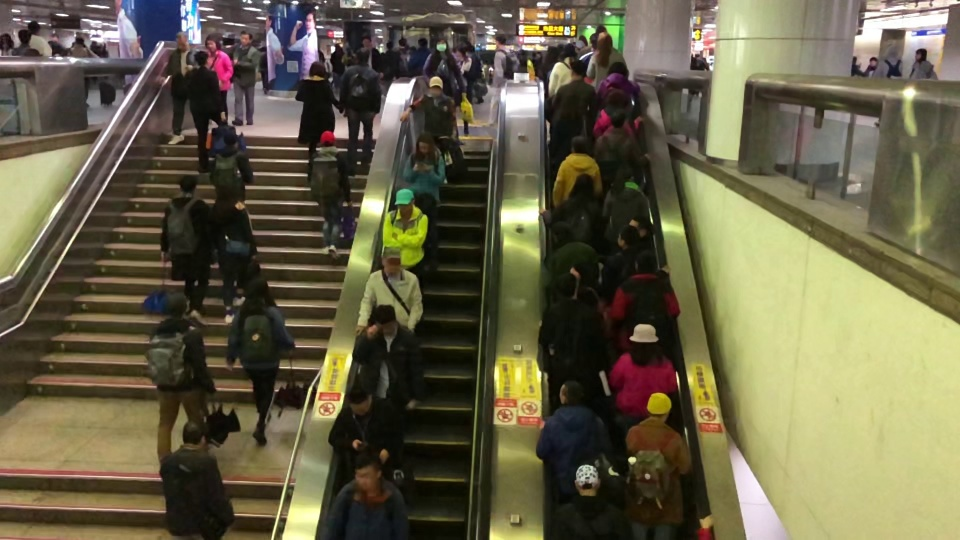person_head: (350, 447, 384, 495), (630, 321, 661, 360), (344, 375, 374, 415), (644, 391, 674, 424), (574, 463, 601, 499), (180, 419, 210, 446), (557, 379, 585, 406), (163, 291, 189, 320), (551, 275, 579, 300), (244, 276, 273, 300), (633, 248, 658, 275), (375, 304, 396, 334), (414, 131, 437, 156), (548, 220, 574, 242), (382, 246, 402, 274), (394, 188, 415, 214), (177, 171, 200, 194), (616, 226, 639, 249), (572, 173, 594, 197), (630, 216, 652, 239), (559, 94, 579, 119), (607, 60, 630, 80), (605, 90, 628, 110), (569, 134, 589, 155), (617, 162, 634, 184), (308, 59, 326, 79), (427, 74, 443, 96), (318, 129, 336, 147), (609, 110, 626, 129), (571, 59, 587, 79), (224, 187, 244, 202), (598, 30, 613, 50), (175, 30, 189, 51), (193, 49, 209, 67), (223, 129, 238, 148), (205, 32, 220, 50), (436, 35, 450, 54), (914, 48, 929, 63), (240, 29, 253, 46), (0, 33, 14, 48), (355, 50, 367, 66), (362, 35, 374, 50), (884, 45, 899, 57), (28, 21, 40, 35), (455, 46, 467, 60), (17, 29, 29, 42), (495, 34, 506, 48), (417, 36, 429, 48), (562, 45, 574, 57), (590, 34, 597, 48), (74, 34, 83, 44), (386, 40, 394, 50), (576, 41, 584, 51), (334, 42, 341, 53), (399, 37, 406, 48), (869, 56, 876, 66), (51, 33, 58, 41), (260, 46, 267, 52), (851, 55, 855, 63), (695, 53, 700, 58)
person_vbox: (143, 291, 216, 461), (224, 275, 296, 446), (605, 322, 679, 477), (586, 246, 683, 353), (624, 391, 691, 540), (158, 172, 219, 331), (159, 418, 235, 540), (317, 447, 411, 540), (324, 374, 405, 480), (537, 273, 607, 394), (534, 378, 607, 494), (352, 303, 426, 412), (401, 131, 446, 283), (210, 186, 259, 325), (399, 74, 459, 186), (354, 248, 424, 337), (552, 461, 629, 540), (293, 60, 342, 183), (309, 129, 354, 259), (337, 49, 382, 174), (182, 49, 226, 175), (537, 172, 609, 248), (601, 227, 671, 303), (422, 34, 467, 148), (159, 30, 197, 148), (382, 186, 430, 277), (603, 160, 651, 241), (546, 58, 599, 131), (553, 133, 603, 209), (593, 110, 651, 175), (543, 219, 601, 284), (208, 128, 258, 201), (230, 27, 262, 127), (550, 94, 588, 172), (204, 31, 234, 124), (873, 43, 905, 128), (591, 89, 644, 139), (585, 31, 627, 90), (70, 35, 101, 109), (597, 61, 642, 106), (454, 45, 474, 140), (492, 32, 519, 86), (548, 43, 576, 92), (909, 47, 938, 81), (362, 35, 384, 77), (10, 29, 39, 58), (410, 34, 431, 74), (330, 40, 345, 94), (29, 21, 52, 56), (381, 42, 400, 79), (258, 45, 269, 94), (397, 38, 410, 68), (0, 32, 15, 57), (48, 32, 65, 54), (864, 55, 878, 77), (850, 55, 862, 76), (697, 54, 705, 71)
